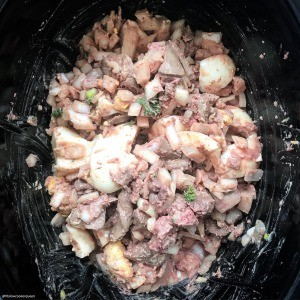liver_brain food: (133, 181, 197, 262), (60, 70, 108, 130), (63, 199, 110, 233)
